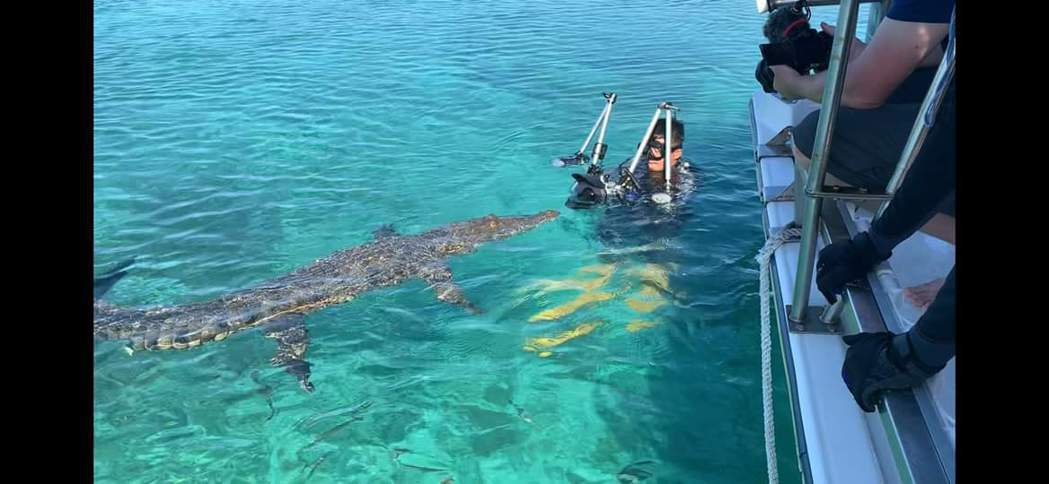shark: (80, 200, 574, 396)
